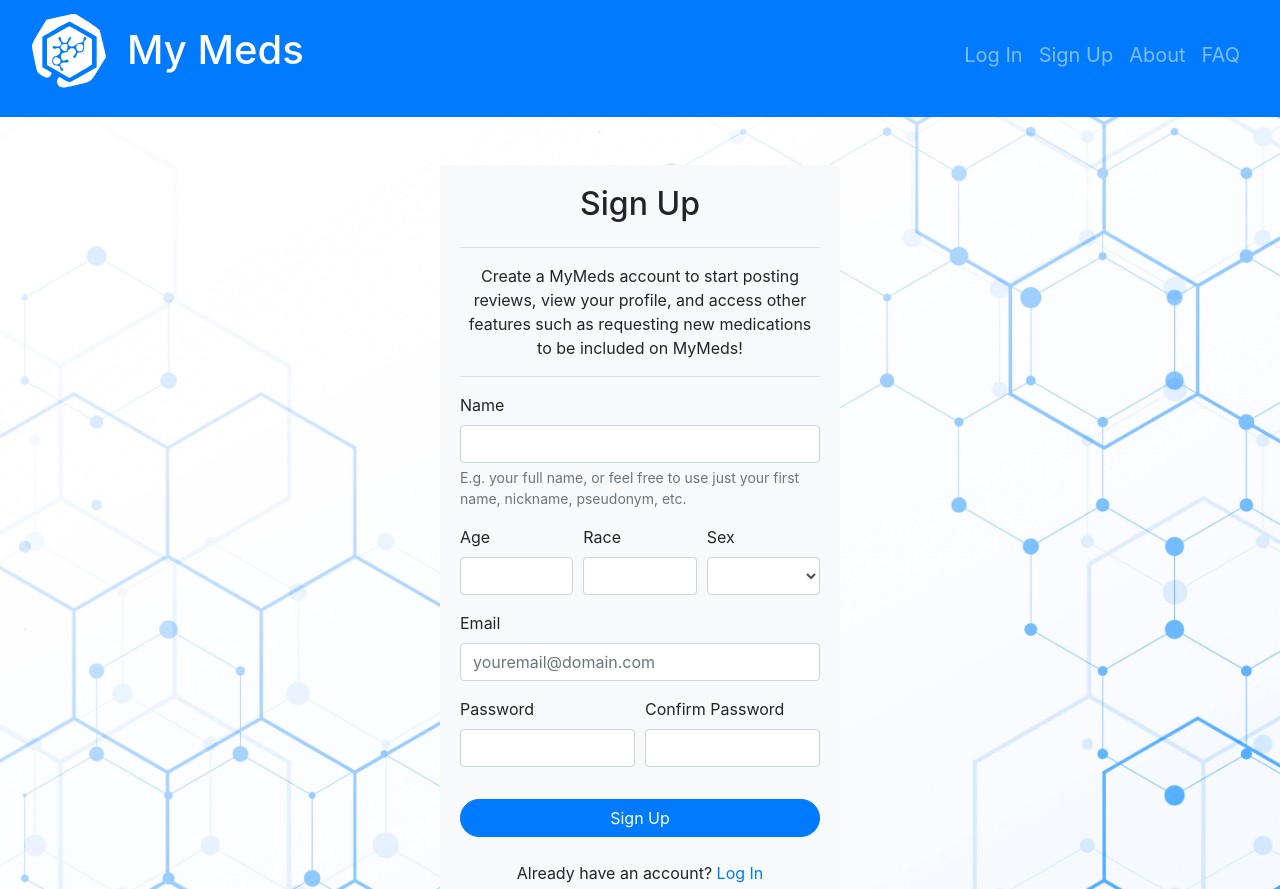
it: Button disabled when password valid and passwords are not matching
This screenshot has width=1280, height=889.
In the password field with test id "pass-input": (548, 748) [460, 729, 635, 767], type "Tsettset!2"
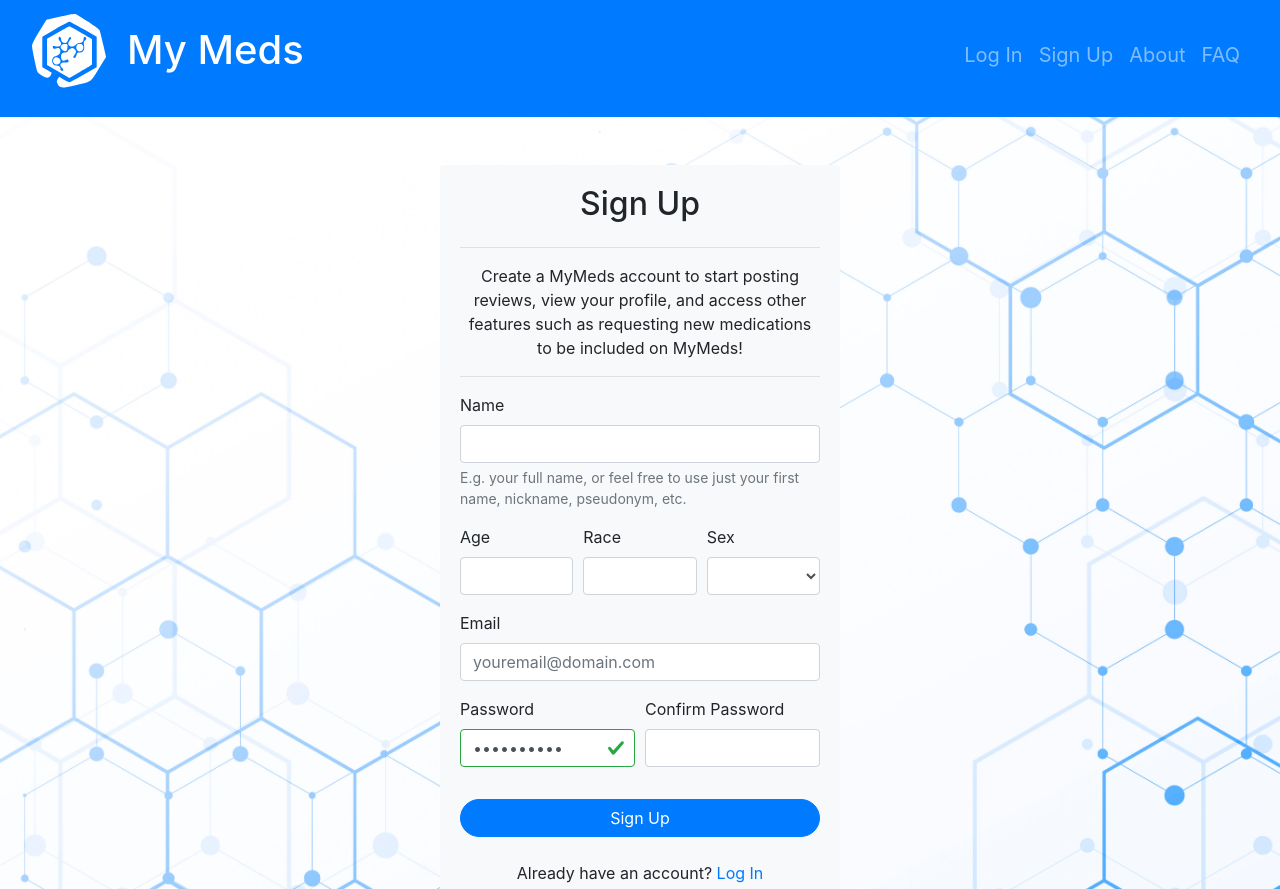
In the password field with test id "pass-conf-input": (732, 748) [645, 729, 820, 767], type "Tsettset!5"
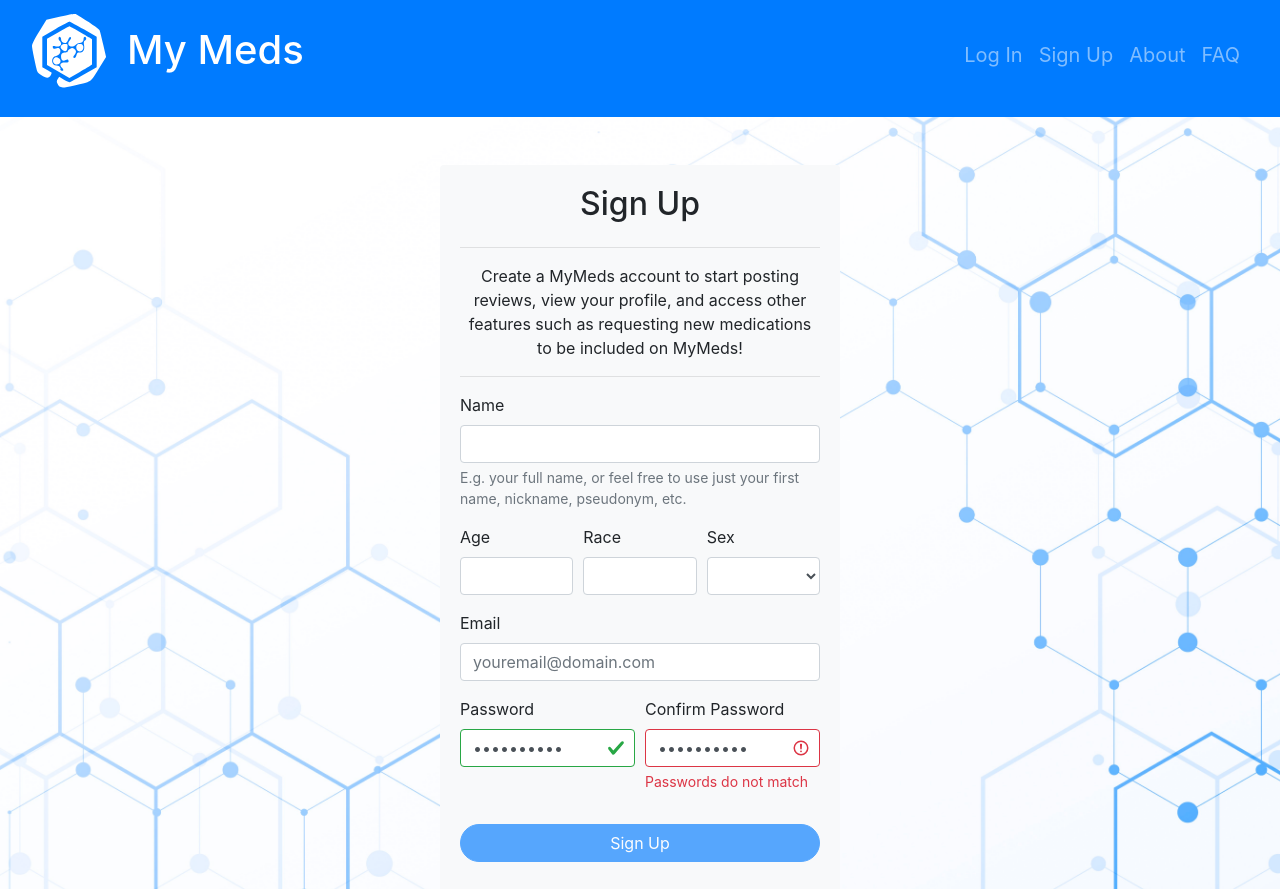
Now the button with test id "button" is disabled, box [460, 824, 820, 862]
